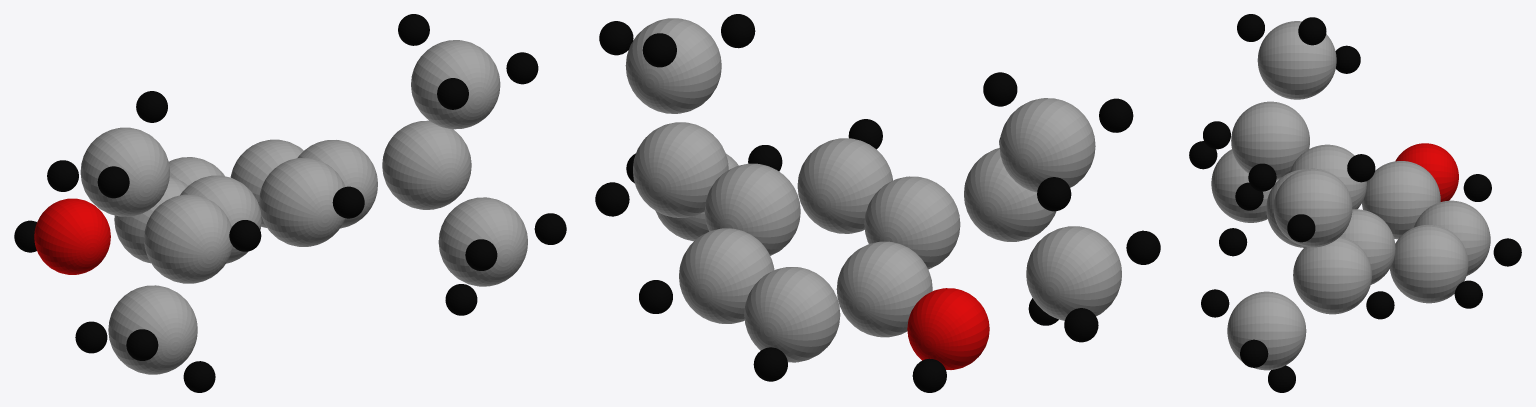
File: Linalool.glb
3 renders of one model, left to right at view 1: azimuth 30°, elevation 25°; view 2: azimuth 150°, elevation 25°; view 3: azimuth 270°, elevation 25°, orthographic. The views are drawn at different scales.
Parts seen in each view (by area): view 1: world; view 2: world; view 3: world.
Part boxes in pixels (box(x1,y1,x2,y2)): world: box(14, 14, 566, 392); world: box(595, 14, 1160, 392); world: box(1189, 14, 1521, 392).
Bounding box in the file's own units: 8.43 × 4.84 × 5.9.
